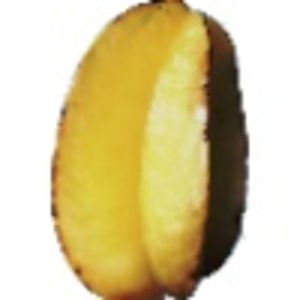carambola: (50, 1, 249, 300)
